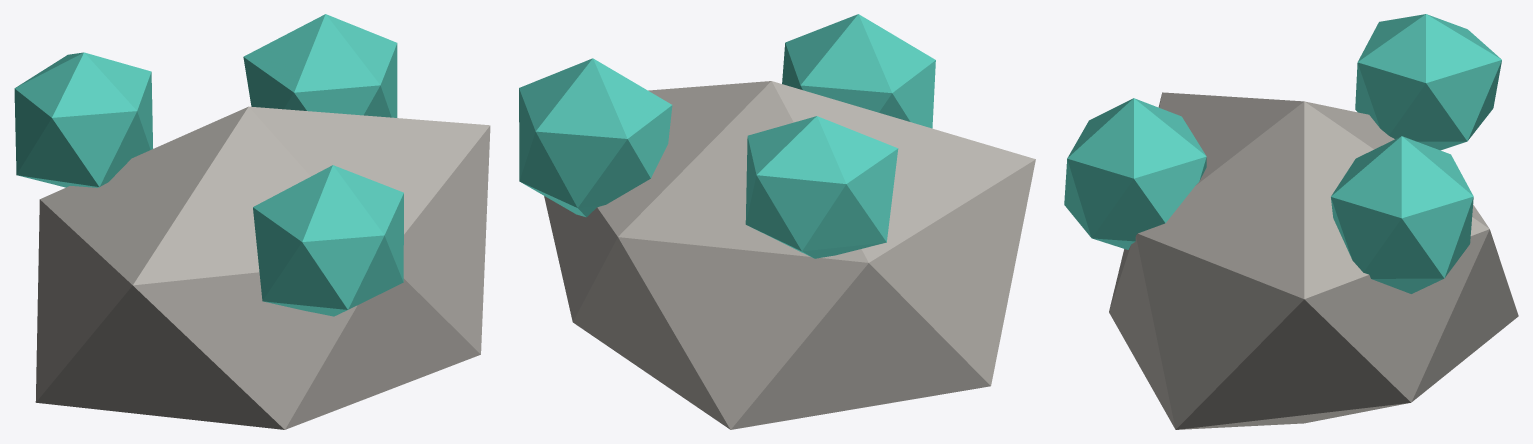
File: minerio_cobre.glb
3 views of the same model, side by side, from view 1: azimuth 30°, elevation 25°; view 2: azimuth 150°, elevation 25°; view 3: azimuth 270°, elevation 25° (orthographic). The views are drawn at different scales.
Visible parts, largest first — view 1: minerio_cobre; view 2: minerio_cobre; view 3: minerio_cobre.
Boxes of the visible parts, x1,y1,x2,y2 form: minerio_cobre: (14, 14, 490, 429); minerio_cobre: (519, 14, 1035, 429); minerio_cobre: (1064, 14, 1518, 429).
Size of the model in its own units: 0.218 by 0.1622 by 0.1866.
